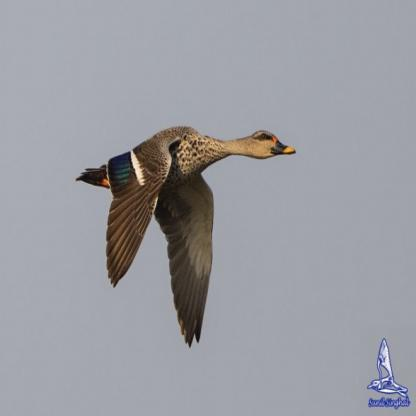Burung: (76, 126, 295, 348)
